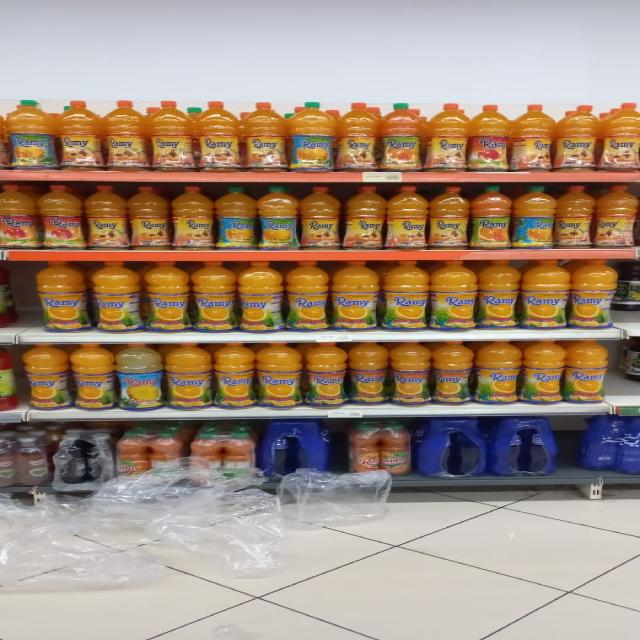ramy_plastique: (34, 262, 88, 332), (89, 262, 141, 332), (9, 100, 60, 169), (287, 102, 337, 172), (521, 260, 571, 330), (101, 100, 150, 171), (144, 262, 192, 334), (236, 262, 284, 334), (568, 259, 618, 328), (146, 99, 193, 172), (57, 100, 105, 170), (238, 102, 286, 172), (430, 260, 478, 330), (22, 342, 71, 410), (423, 103, 471, 172), (254, 341, 302, 410), (332, 260, 379, 330), (191, 262, 238, 332), (115, 344, 164, 411), (164, 344, 213, 411), (285, 261, 331, 332), (382, 261, 429, 330), (196, 102, 242, 172), (552, 105, 600, 172), (38, 184, 85, 252), (335, 103, 381, 172), (474, 340, 522, 406), (378, 102, 423, 172), (477, 260, 522, 330), (70, 343, 117, 410), (211, 342, 257, 410), (518, 339, 566, 404), (509, 104, 555, 171), (468, 103, 512, 172), (84, 184, 129, 251), (562, 339, 608, 404), (430, 341, 475, 407), (304, 342, 348, 409), (257, 186, 302, 251), (170, 186, 214, 252), (127, 185, 171, 251), (214, 185, 258, 251), (594, 184, 638, 249), (347, 341, 390, 407), (512, 185, 556, 249), (389, 342, 432, 407), (598, 103, 639, 171), (344, 185, 386, 251), (469, 186, 512, 250), (386, 187, 429, 251), (554, 185, 596, 249), (0, 184, 40, 251), (299, 187, 341, 250), (428, 187, 469, 250)
